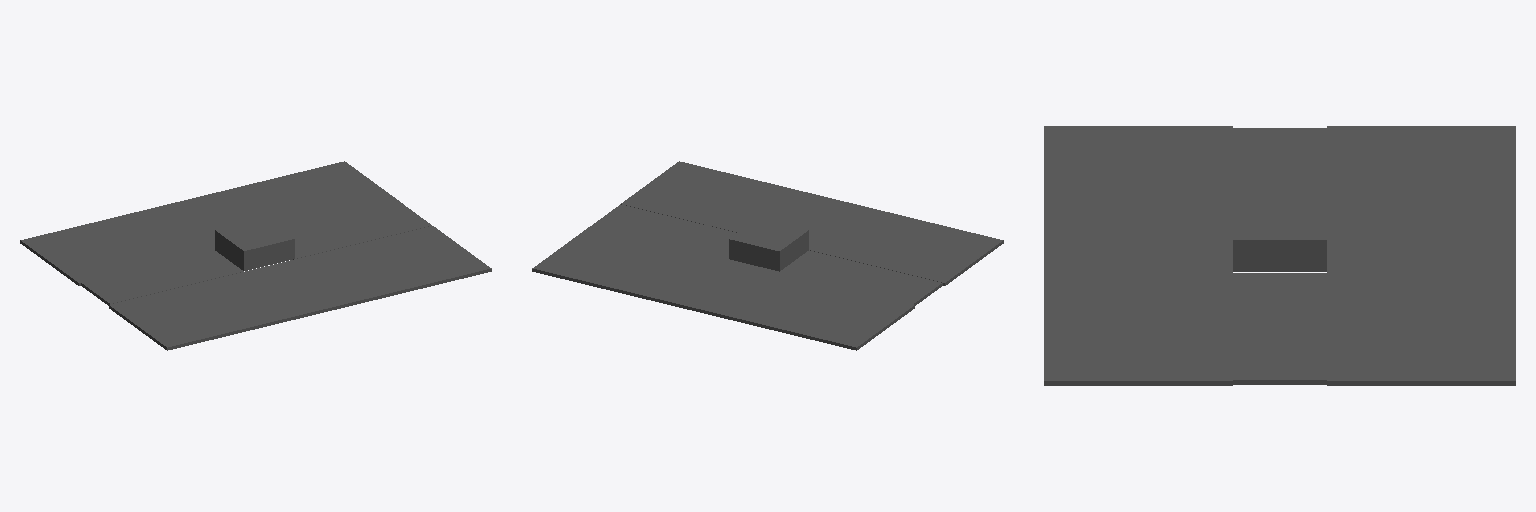
URDF robot description (lab_scene):
<?xml version="1.0" ?>
<robot name="lab_scene" xmlns:xacro="http://ros.org/wiki/xacro">
  <link name="base_link">
    <inertial>
      <mass value="200" />
      <inertia ixx="1.0" ixy="0.0" ixz="0.0" iyy="1.0" iyz="0.0" izz="1.0" />
    </inertial>
    <visual>
      <origin rpy="0 0 0" xyz="0 0 0"/>
      <geometry>
        <mesh filename="package://meshes/one_step_40cm.stl"/>
      </geometry>
      <material name="">
        <color rgba="0.4 0.4 0.4 1.0"/>
      </material>
    </visual>
    <collision concave="yes">
      <origin rpy="0 0 0" xyz="0 0 0"/>
      <geometry>
        <mesh filename="package://meshes/one_step_40cm.stl"/>
      </geometry>
    </collision>
  </link>
  <gazebo>
    <static>1</static>
  </gazebo>
</robot>

--- Render facts (derived) ---
The picture shows the robot from 3 angles, left to right: view 1: azimuth 30°, elevation 25°; view 2: azimuth 150°, elevation 25°; view 3: azimuth 270°, elevation 25°; orthographic projection.
Robot: lab_scene — 1 links, 0 joints (none); root link base_link; default pose: all joints at 0.
Links seen in each view (by area): view 1: base_link; view 2: base_link; view 3: base_link.
Link boxes in pixels (x1,y1,x2,y2): base_link: [20, 161, 491, 350]; base_link: [532, 161, 1003, 350]; base_link: [1044, 126, 1515, 385].
Bounding box of the posed robot: 6.4 × 5.01 × 0.4401 m (x, y, z).
Meshes: 1 distinct files referenced, 1 mesh visuals loaded (1 binary STL).